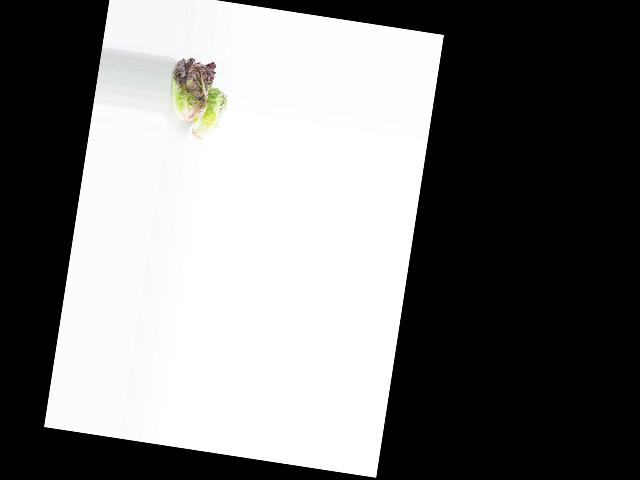lettuce: (188, 83, 229, 144)
